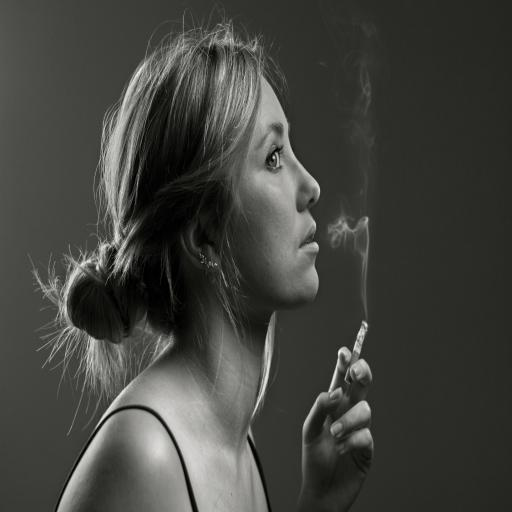terdeteksi pegang rokok: (296, 295, 394, 505)
